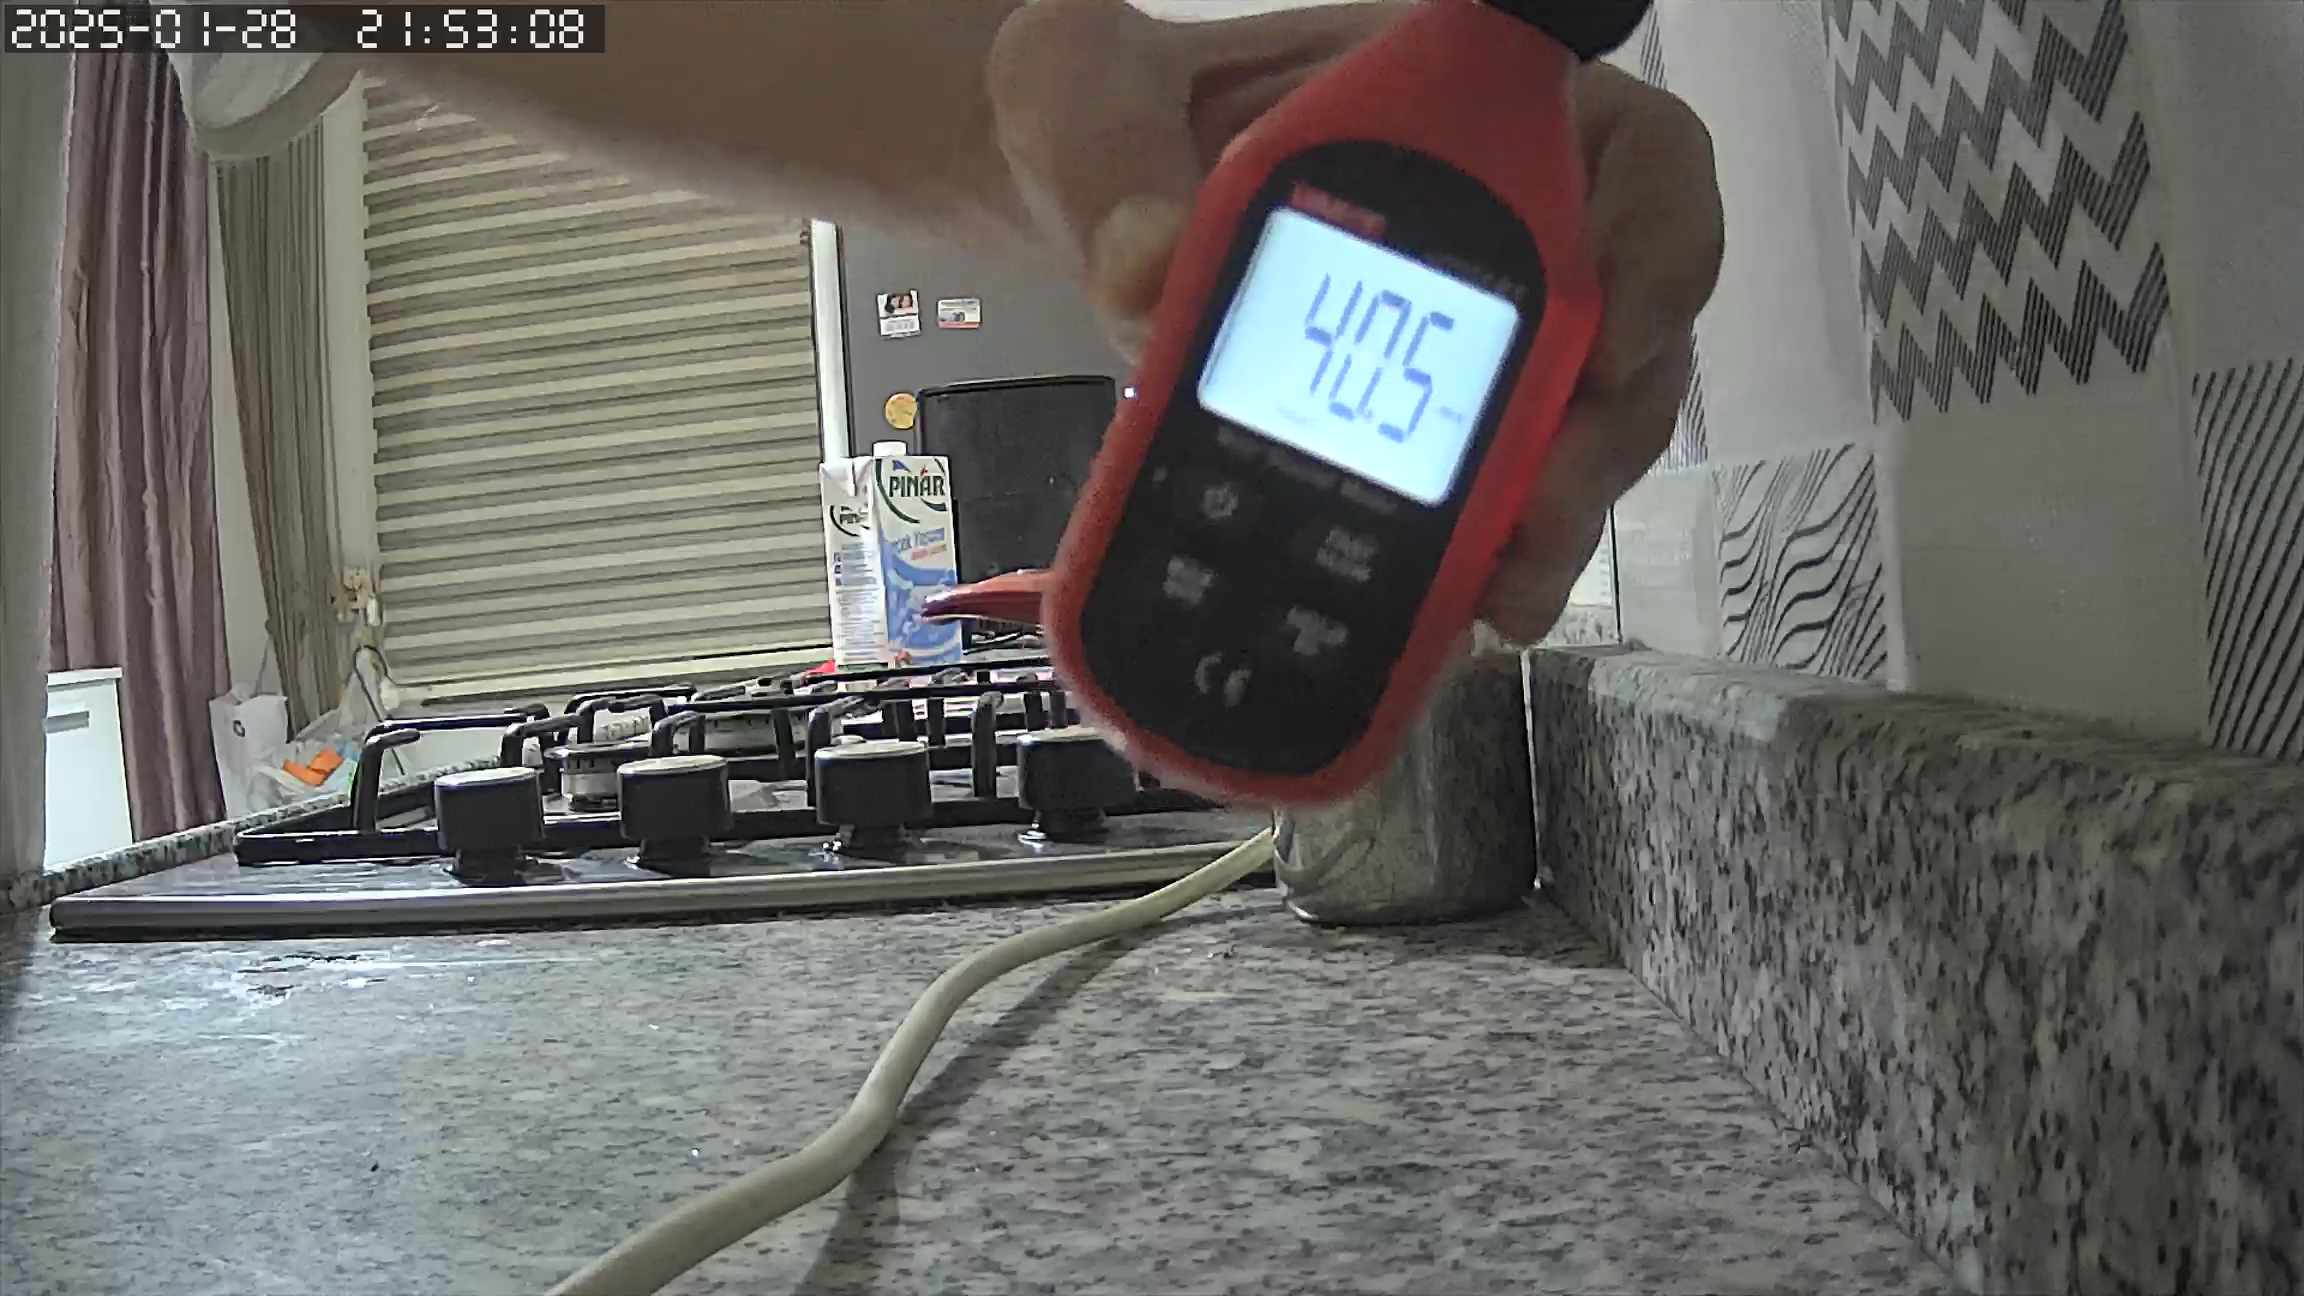screen: (1199, 203, 1521, 505)
